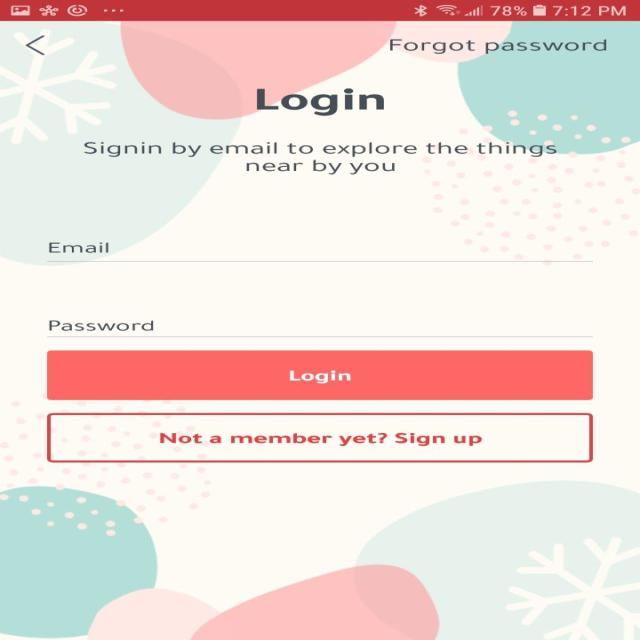BackgroundImage: (0, 21, 639, 639)
EditText: (47, 242, 593, 262), (46, 319, 592, 337)
Icon: (24, 35, 44, 55)
Text: (84, 141, 556, 175), (255, 88, 384, 116), (389, 39, 606, 54), (48, 320, 153, 331), (48, 241, 110, 253)
TextButton: (47, 350, 593, 400), (47, 412, 593, 462)
